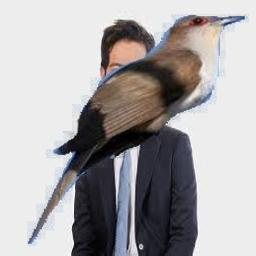Cuckoo: (26, 14, 249, 246)
